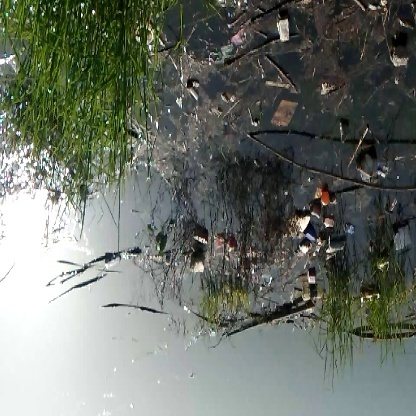branch: (249, 132, 416, 201)
